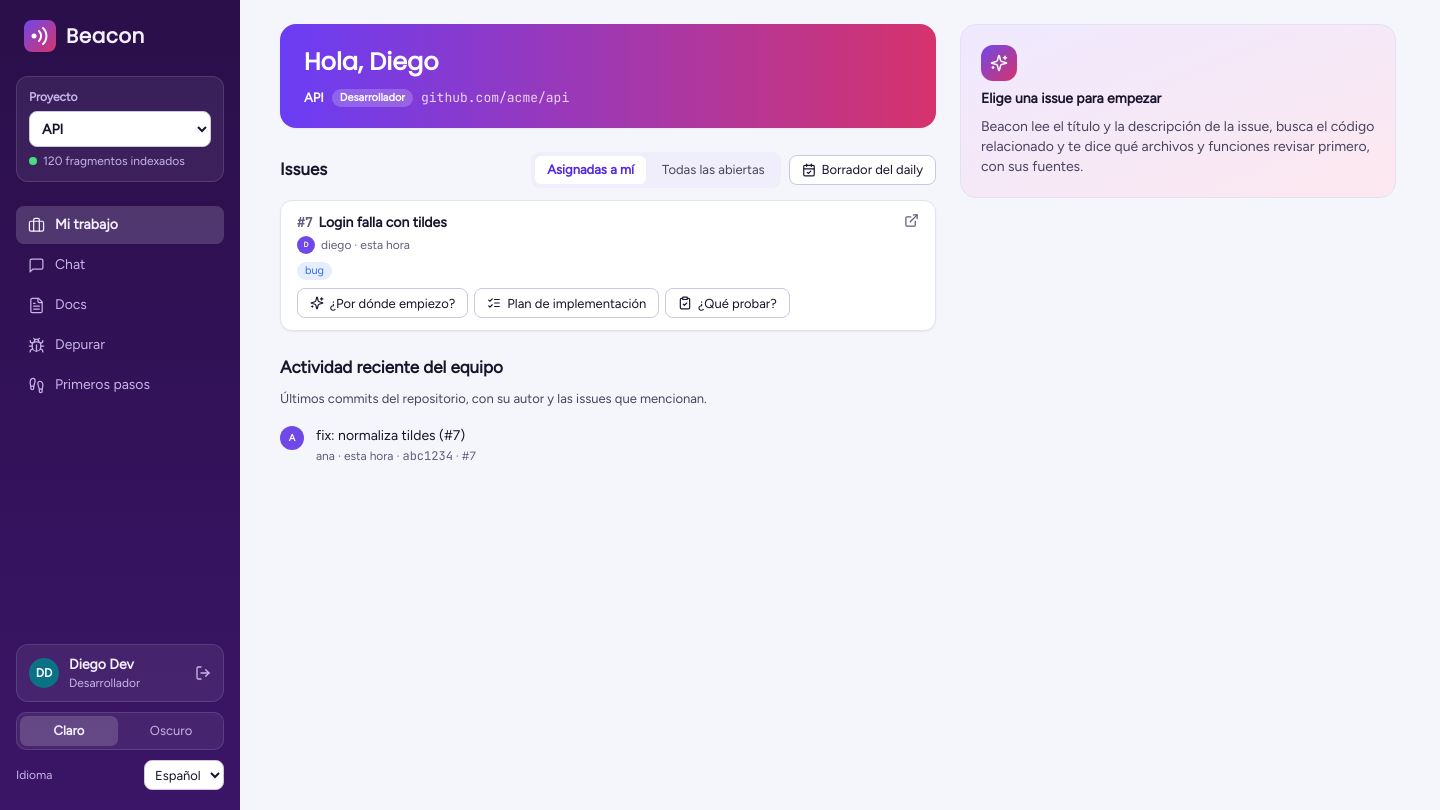
Scenario: modo equipo › «¿Qué probar?» calcula el impacto y el plan de pruebas, y la issue muestra su código asociado
Click the button "¿Qué probar?": click(728, 303) [665,288,790,318]
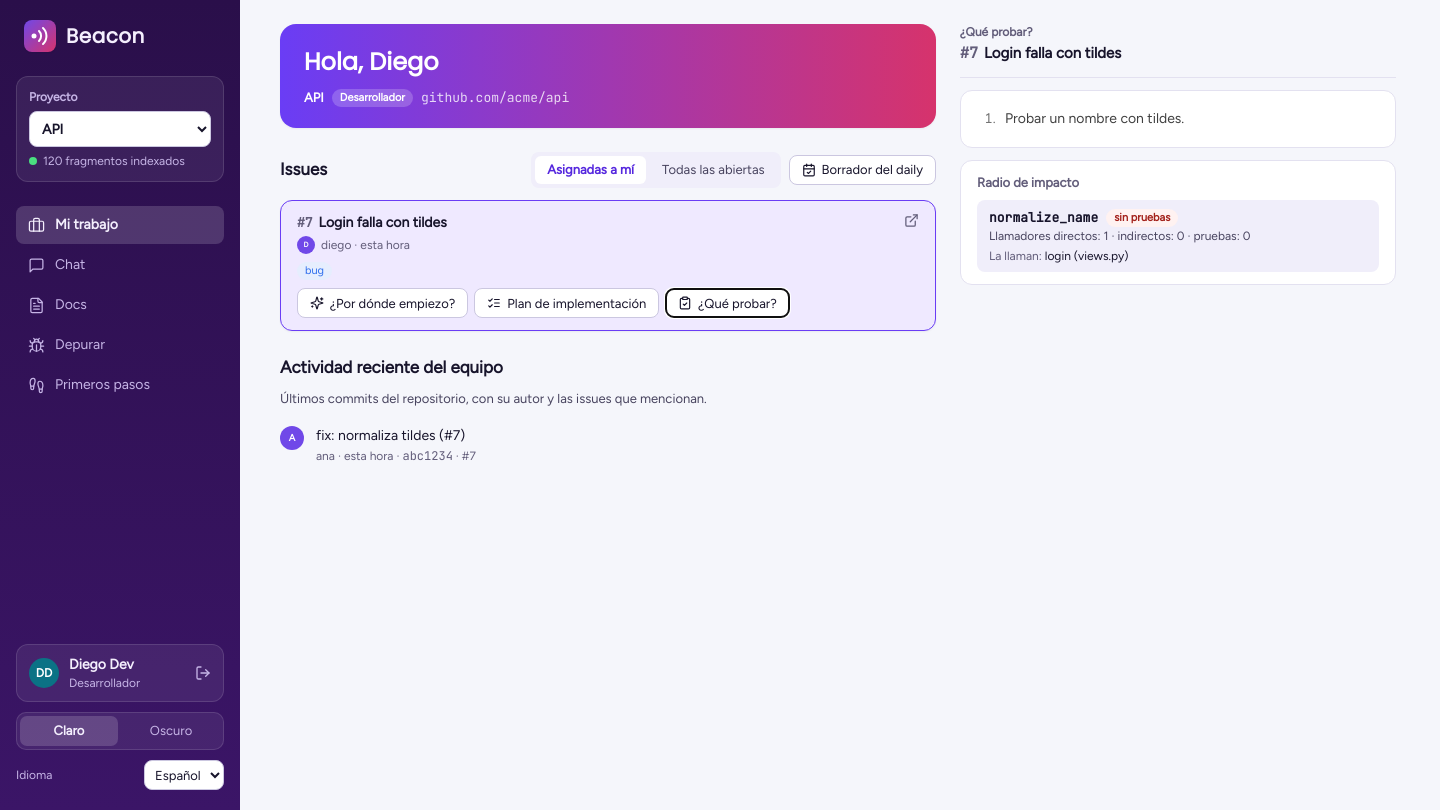
Result: the list item "Probar un nombre con tildes." is shown at [1005,110,1184,126]
Result: the text "sin pruebas" is shown at [1106,208,1178,227]
Click the button "¿Por dónde empiezo?": click(383, 303) [297,288,468,318]
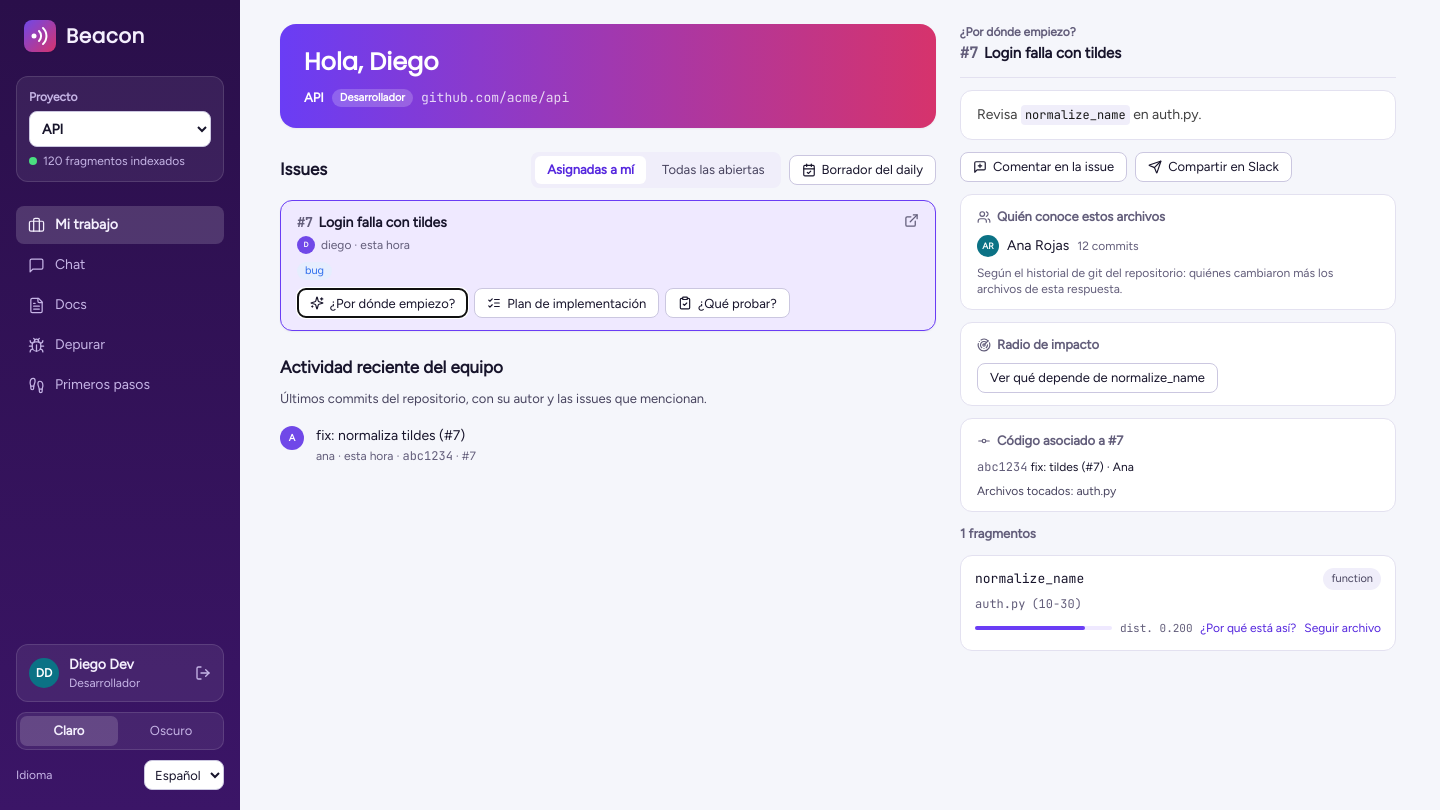
Result: the text "Código asociado a #7" is shown at [977,432,1123,448]
